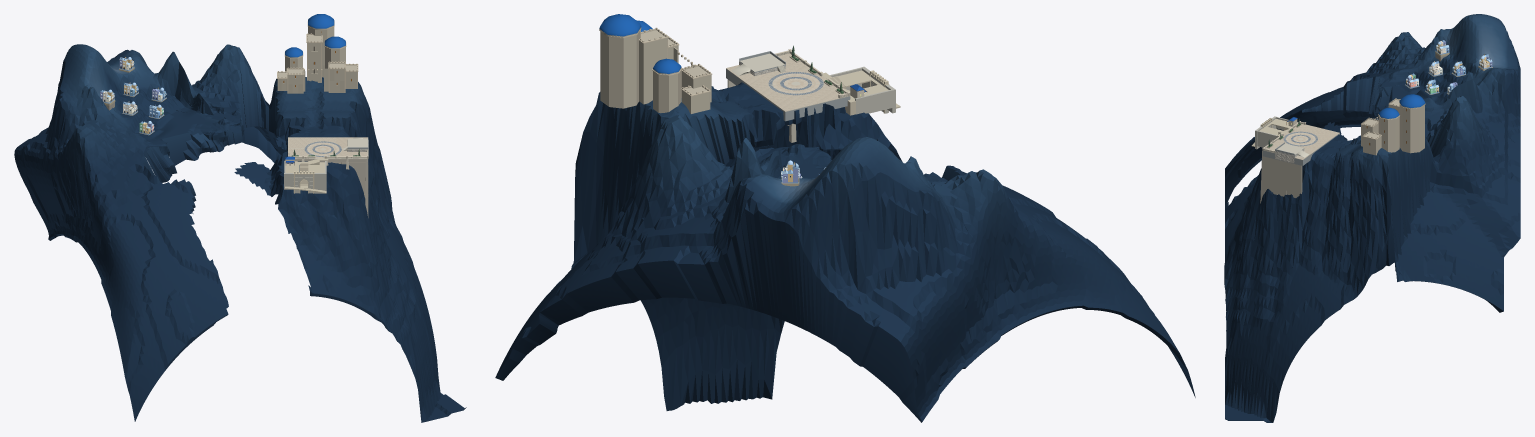
The model's file is citadel-master-terrain-placement-r03.glb.
3 renders of one model, left to right at view 1: azimuth 30°, elevation 25°; view 2: azimuth 150°, elevation 25°; view 3: azimuth 270°, elevation 25°, orthographic. The views are drawn at different scales.
Visible parts, largest first — view 1: citadel-oskar-grid-mountain-surface, citadel-coastal-cliff-seal, target-castle-exterior (×3), west-city-plaza-paving-ring, plaza-retaining-solid, west-city-plaza-deck; view 2: citadel-oskar-grid-mountain-surface, target-castle-exterior (×3), west-city-plaza-paving-ring, citadel-coastal-cliff-seal, west-city-plaza-deck, west-city-plaza-foundation, integrated-return-wall; view 3: citadel-oskar-grid-mountain-surface, target-castle-exterior (×3), citadel-coastal-cliff-seal, plaza-retaining-solid, west-city-plaza-paving-ring, west-city-plaza-deck.
Boxes of the visible parts, left/top/right/bottom form: citadel-oskar-grid-mountain-surface: left=14, top=44, right=466, bottom=422; citadel-coastal-cliff-seal: left=142, top=61, right=287, bottom=213; target-castle-exterior (×3): left=277, top=14, right=358, bottom=93; west-city-plaza-paving-ring: left=288, top=137, right=367, bottom=158; plaza-retaining-solid: left=295, top=158, right=368, bottom=217; west-city-plaza-deck: left=288, top=137, right=366, bottom=158; citadel-oskar-grid-mountain-surface: left=495, top=82, right=1195, bottom=422; target-castle-exterior (×3): left=599, top=14, right=712, bottom=113; west-city-plaza-paving-ring: left=726, top=53, right=838, bottom=111; citadel-coastal-cliff-seal: left=682, top=108, right=959, bottom=180; west-city-plaza-deck: left=726, top=55, right=849, bottom=111; west-city-plaza-foundation: left=726, top=69, right=849, bottom=121; integrated-return-wall: left=855, top=89, right=893, bottom=114; citadel-oskar-grid-mountain-surface: left=1224, top=14, right=1520, bottom=422; target-castle-exterior (×3): left=1361, top=94, right=1425, bottom=155; citadel-coastal-cliff-seal: left=1302, top=76, right=1450, bottom=157; plaza-retaining-solid: left=1260, top=150, right=1302, bottom=203; west-city-plaza-paving-ring: left=1266, top=124, right=1339, bottom=159; west-city-plaza-deck: left=1263, top=126, right=1339, bottom=159.
Bounding box in the file's own units: 222 × 211 × 185.
Materials: 120 (1 with a texture image).
